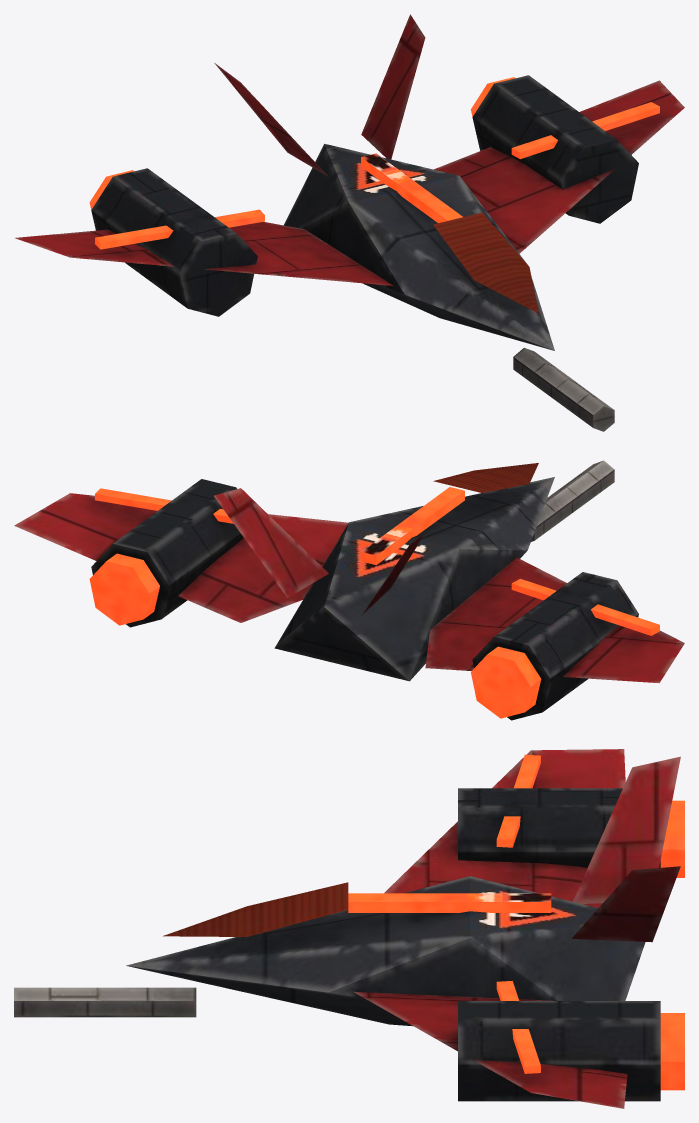
Rendered from s_skyreaver_e.glb.
The picture shows the model from 3 angles, top to bottom: view 1: azimuth 30°, elevation 25°; view 2: azimuth 150°, elevation 25°; view 3: azimuth 270°, elevation 25°; orthographic projection. The views are drawn at different scales.
Visible parts, largest first — view 1: s_skyreaver_e; view 2: s_skyreaver_e; view 3: s_skyreaver_e.
Boxes of the visible parts, x1,y1,x2,y2 form: s_skyreaver_e: [15, 14, 684, 431]; s_skyreaver_e: [14, 460, 684, 720]; s_skyreaver_e: [14, 749, 684, 1108].
Bounding box in the file's own units: 2.1 × 0.58 × 1.65.
1 material, 1 textured.
